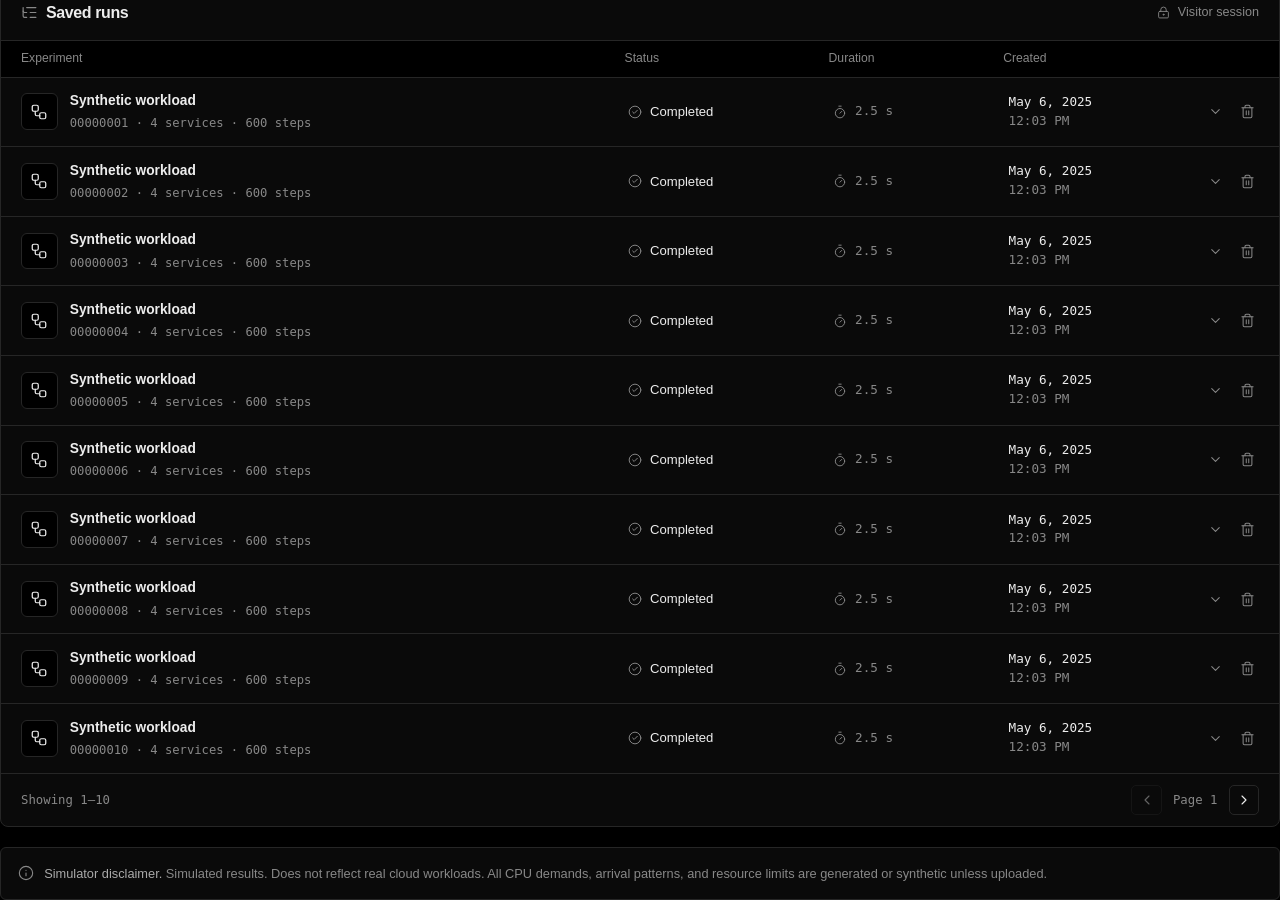
HistoryPage › pages through real API rows and requests deletion only after confirmation
(page scrolled)
Expected: the text "Showing 1–10" is shown, x1=21 y1=791 x2=110 y2=809
Click the button named "Next page".
click(1244, 800)  # box x1=1229 y1=785 x2=1259 y2=815
(page scrolled)
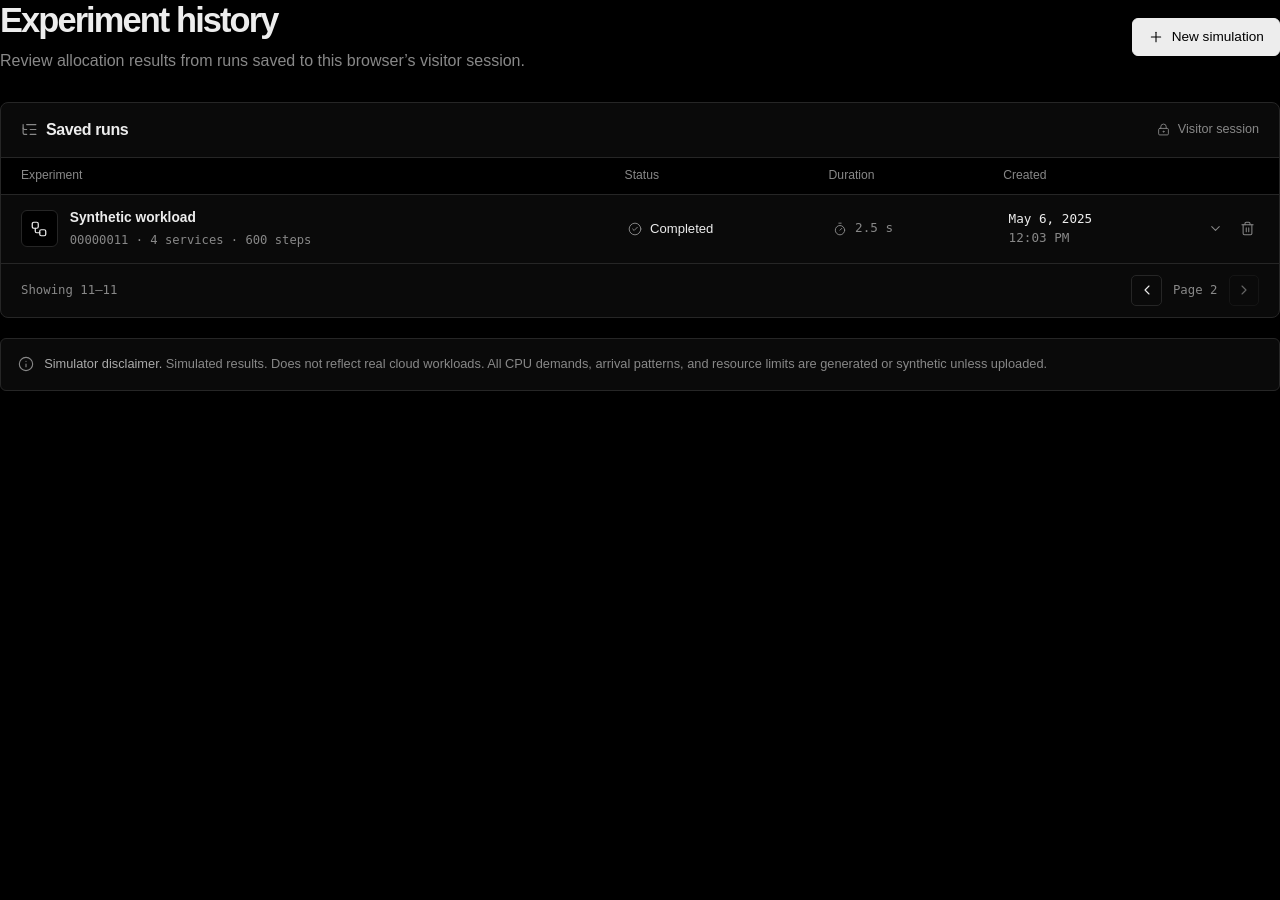
Result: the text "Showing 11–11" is shown at x1=21 y1=281 x2=117 y2=300
Result: the button named "Next page" is disabled at x1=1229 y1=275 x2=1259 y2=306
Click the button named "Delete run 00000011-dcaf-4020-9beb-6afe8acfd369".
click(1248, 229)  # box x1=1229 y1=210 x2=1266 y2=247
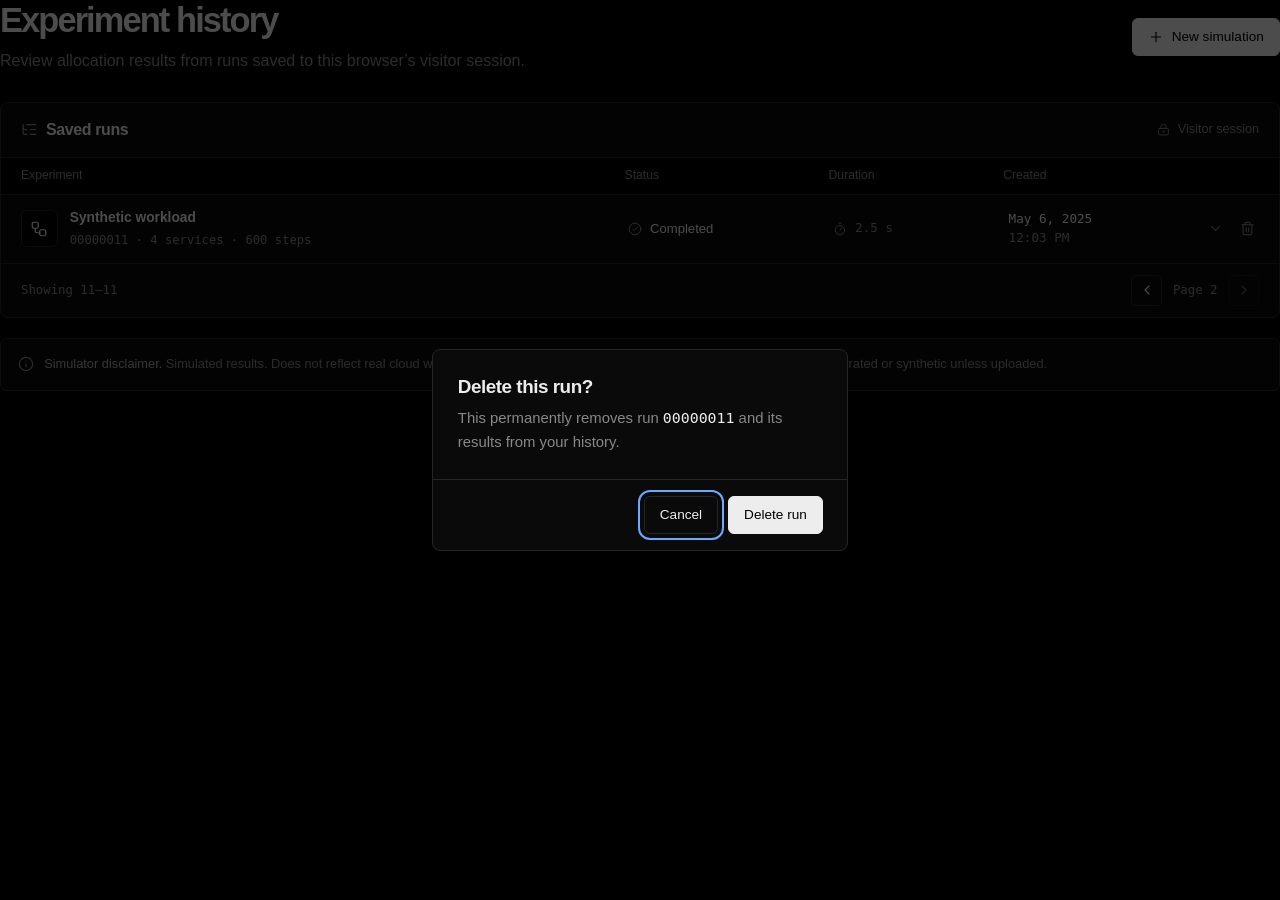
Click the button "Cancel".
click(681, 515)  # box x1=644 y1=496 x2=718 y2=534
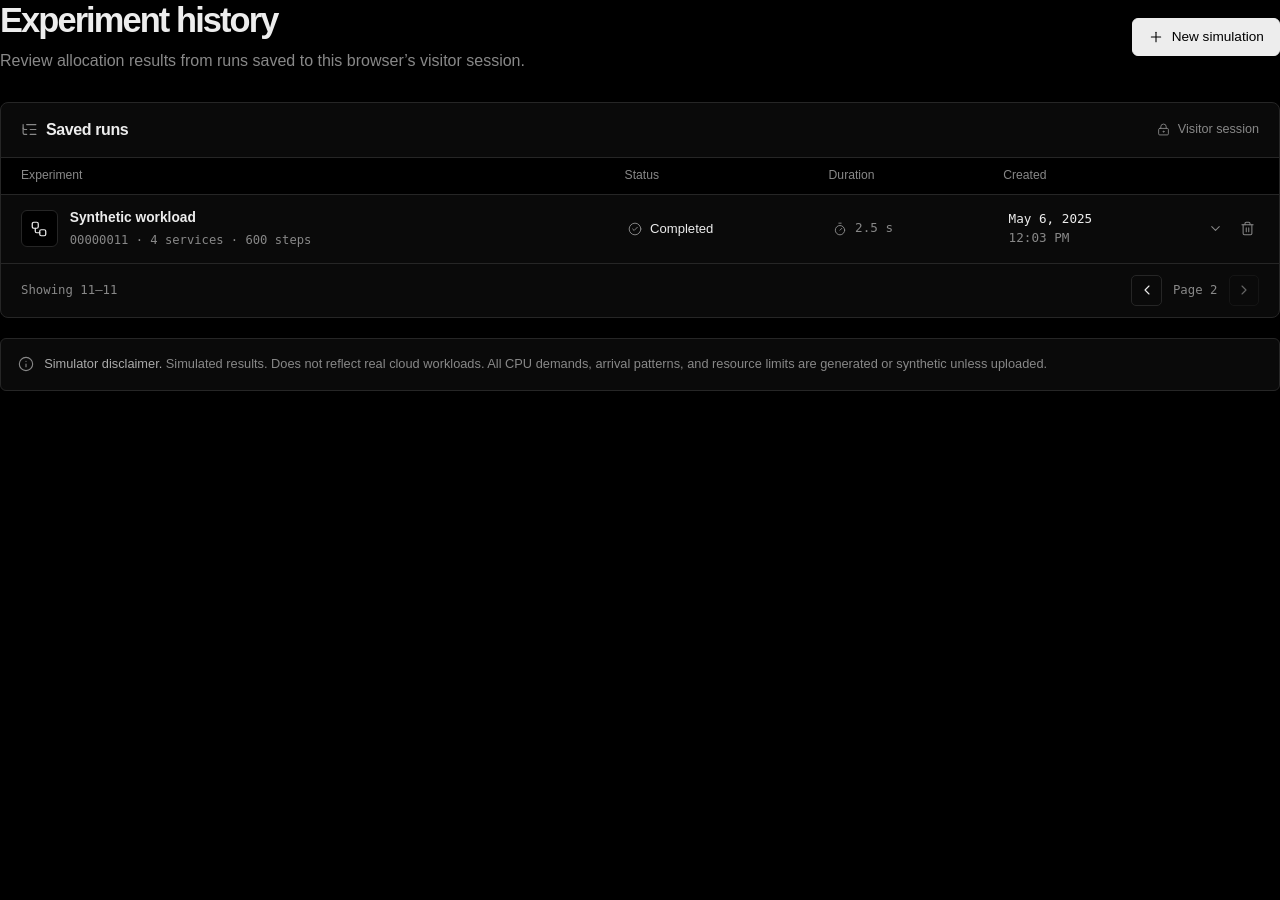
Result: the dialog is gone
Click the button named "Delete run 00000011-dcaf-4020-9beb-6afe8acfd369".
click(1248, 229)  # box x1=1229 y1=210 x2=1266 y2=247
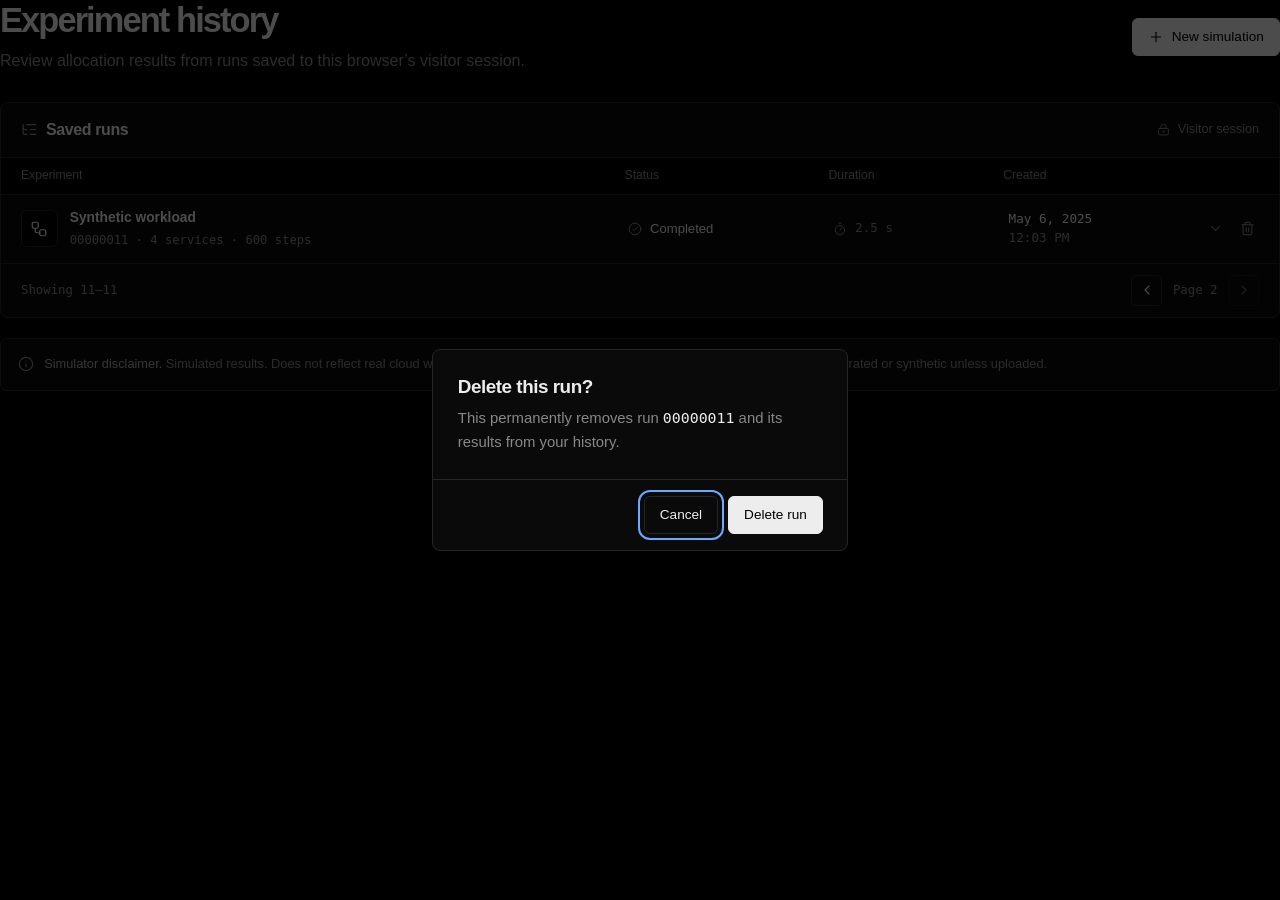
Click the button "Delete run".
click(775, 515)  # box x1=728 y1=496 x2=823 y2=534
(page scrolled)
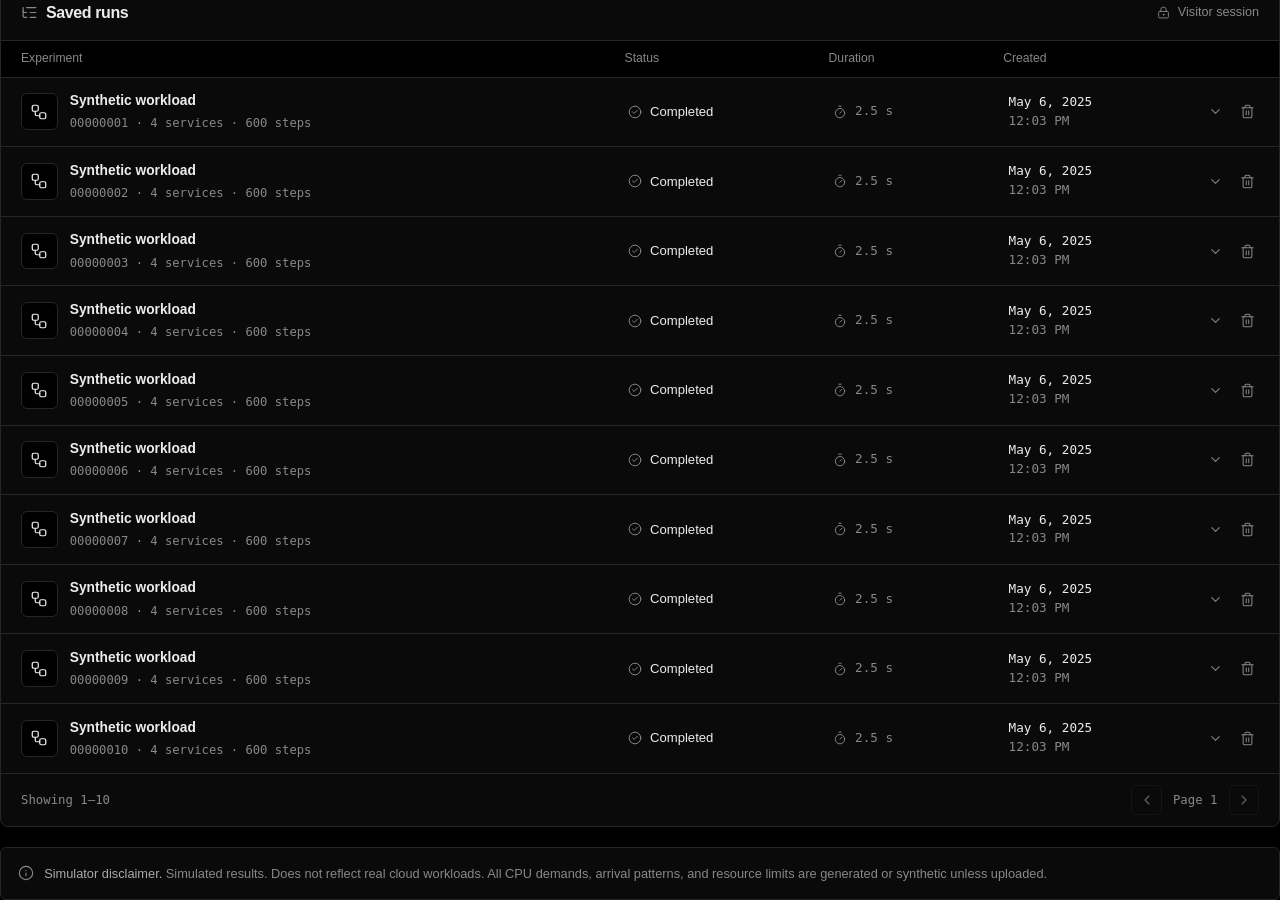
Expected: the button named "Next page" is disabled, x1=1229 y1=785 x2=1259 y2=815
Result: the text "Showing 1–10" is shown at x1=21 y1=791 x2=110 y2=809
